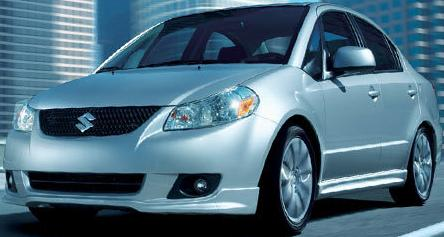front_view: (10, 82, 287, 226)
headlight: (174, 82, 255, 130)
side_glass: (322, 17, 405, 71)
